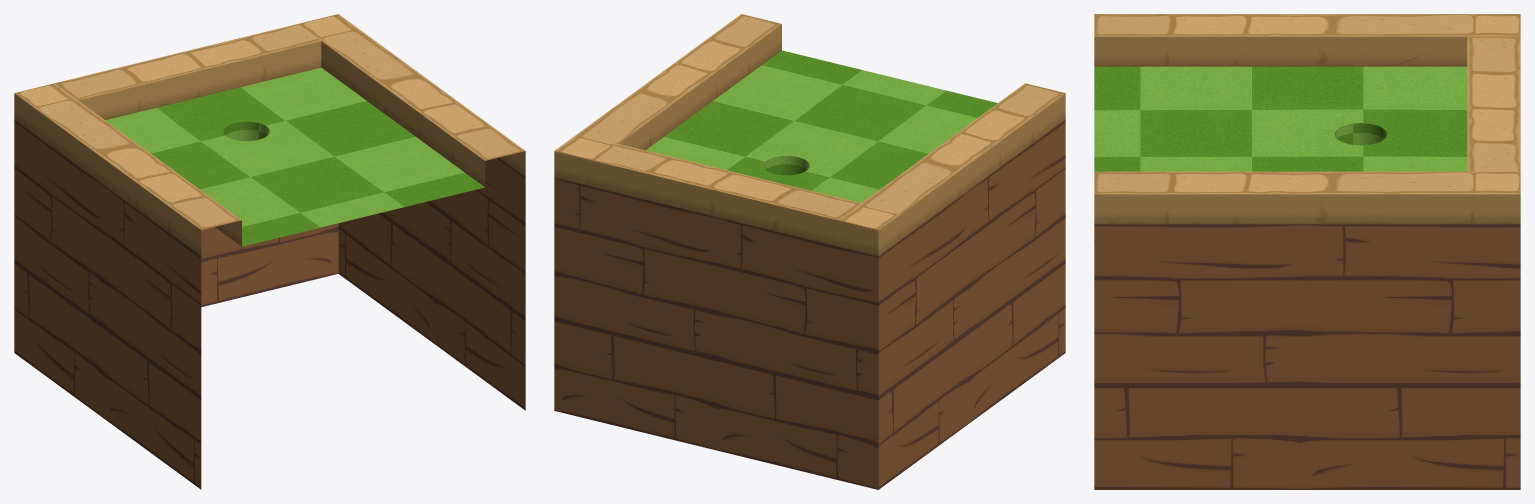
File: tile03.FBX
The picture shows the model from 3 angles, left to right: view 1: azimuth 30°, elevation 25°; view 2: azimuth 150°, elevation 25°; view 3: azimuth 270°, elevation 25°; orthographic projection. The views are drawn at different scales.
Parts seen in each view (by area): view 1: tile02_walls, tile03_floor, tile03_hole; view 2: tile02_walls, tile03_floor, tile03_hole; view 3: tile02_walls, tile03_floor, tile03_hole.
Part boxes in pixels (x1=…): tile02_walls: x1=14, y1=14, x2=525, y2=489; tile03_floor: x1=105, y1=67, x2=484, y2=246; tile03_hole: x1=223, y1=121, x2=269, y2=141; tile02_walls: x1=554, y1=14, x2=1065, y2=489; tile03_floor: x1=645, y1=50, x2=997, y2=202; tile03_hole: x1=763, y1=156, x2=809, y2=175; tile02_walls: x1=1094, y1=14, x2=1520, y2=489; tile03_floor: x1=1094, y1=66, x2=1467, y2=171; tile03_hole: x1=1334, y1=123, x2=1387, y2=145.
Size of the model in its own units: 1280 by 980 by 1280.
